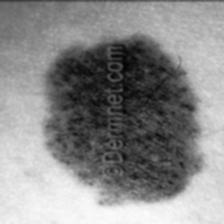Potentially Malignant Skin Tumors: (43, 35, 202, 204)
